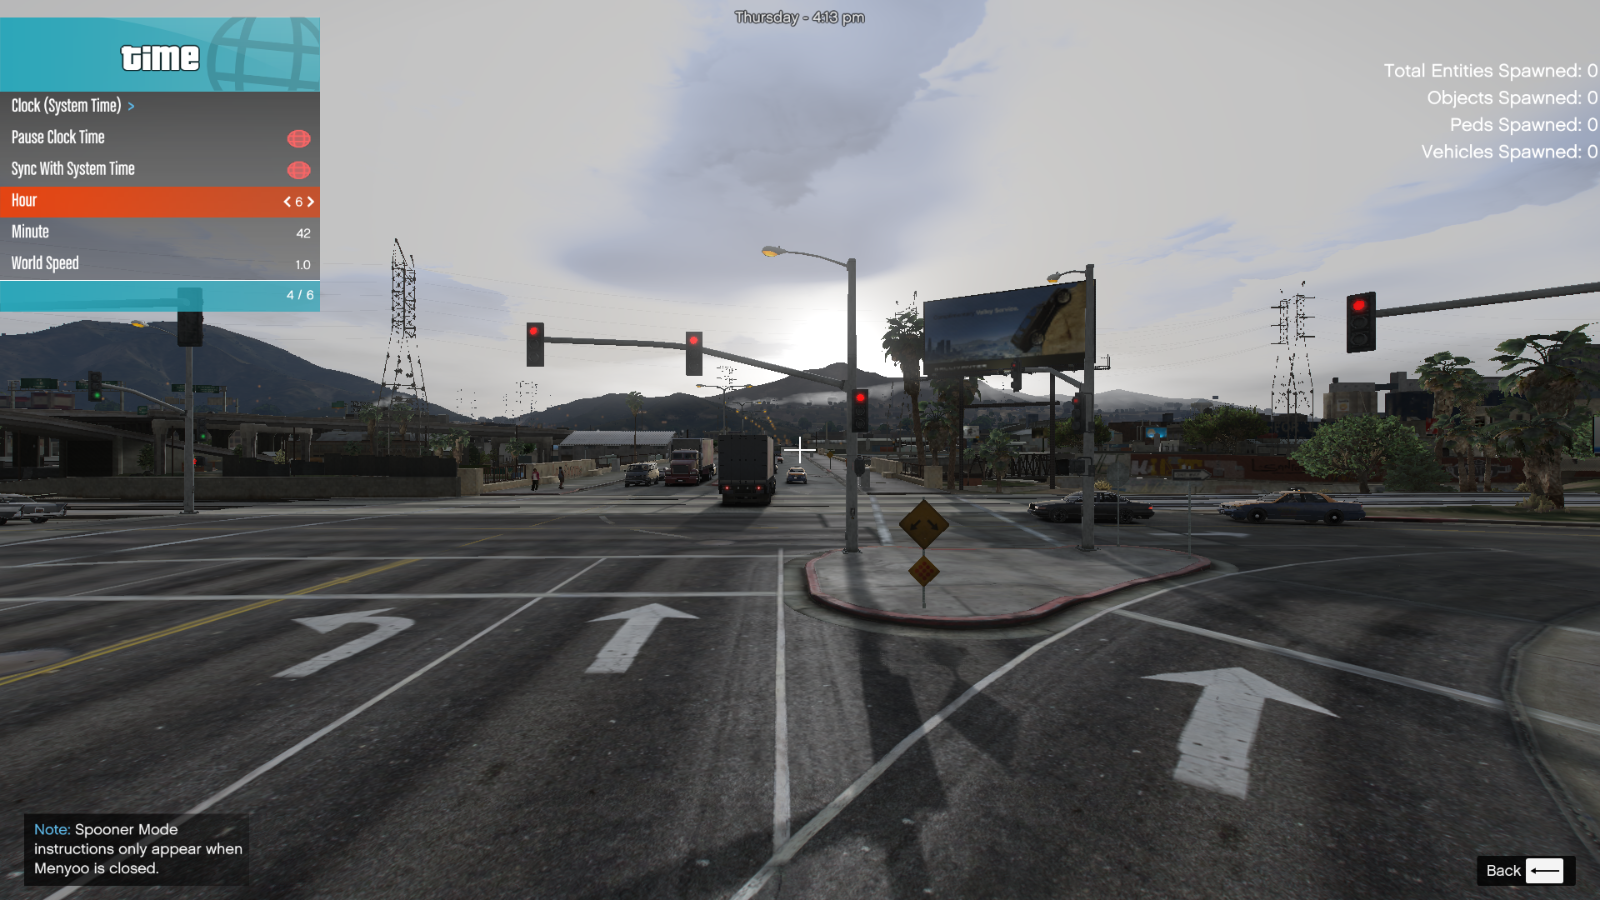red: (1340, 289, 1385, 356), (845, 386, 875, 438), (524, 319, 549, 373), (682, 330, 707, 381)
